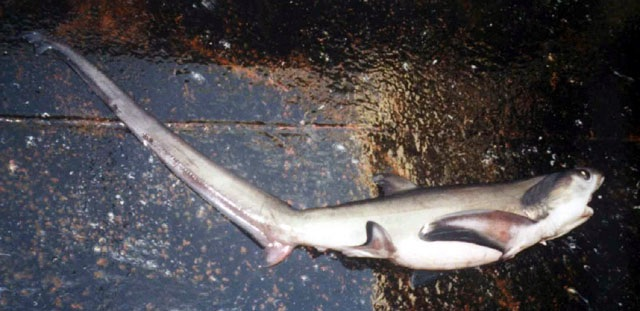shark: (20, 32, 606, 284)
